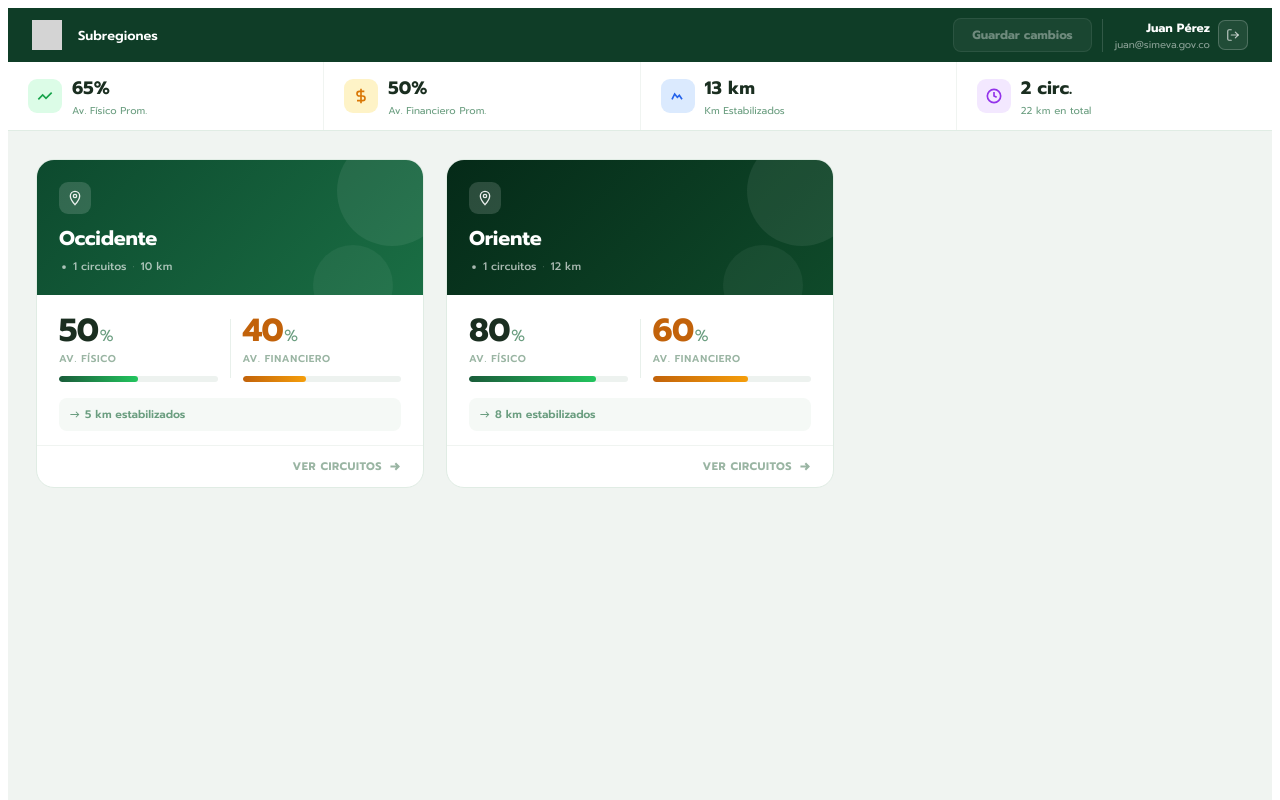
Test case: AdminGeoJsonView — con sesión autenticada › abre el modal de edición con doble clic y aplica un cambio
The width and height of the screenshot is (1280, 800).
Click the element with class "subcard" that starts with "Occidente".
click(230, 324)  # box [36, 159, 424, 488]
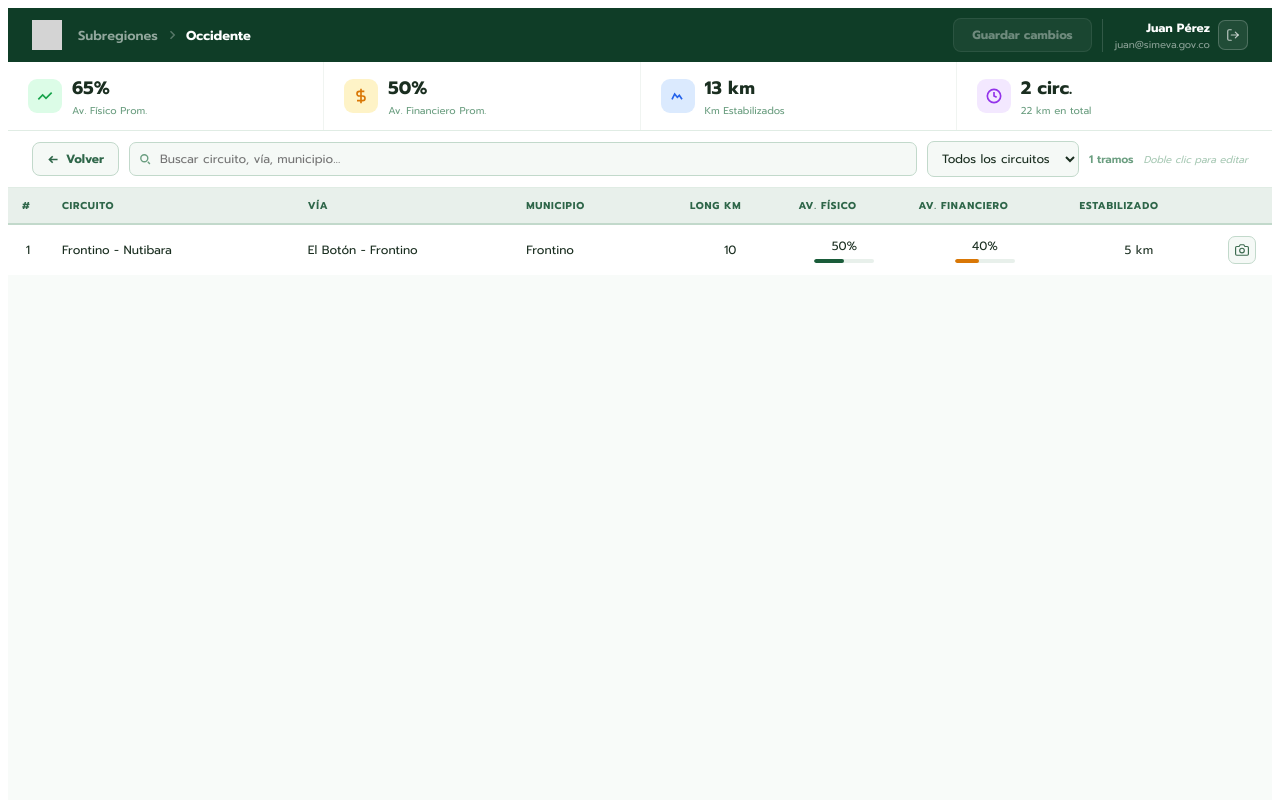
Double-click the row with class "tbl-row".
double_click(640, 250)  # box [8, 225, 1272, 275]
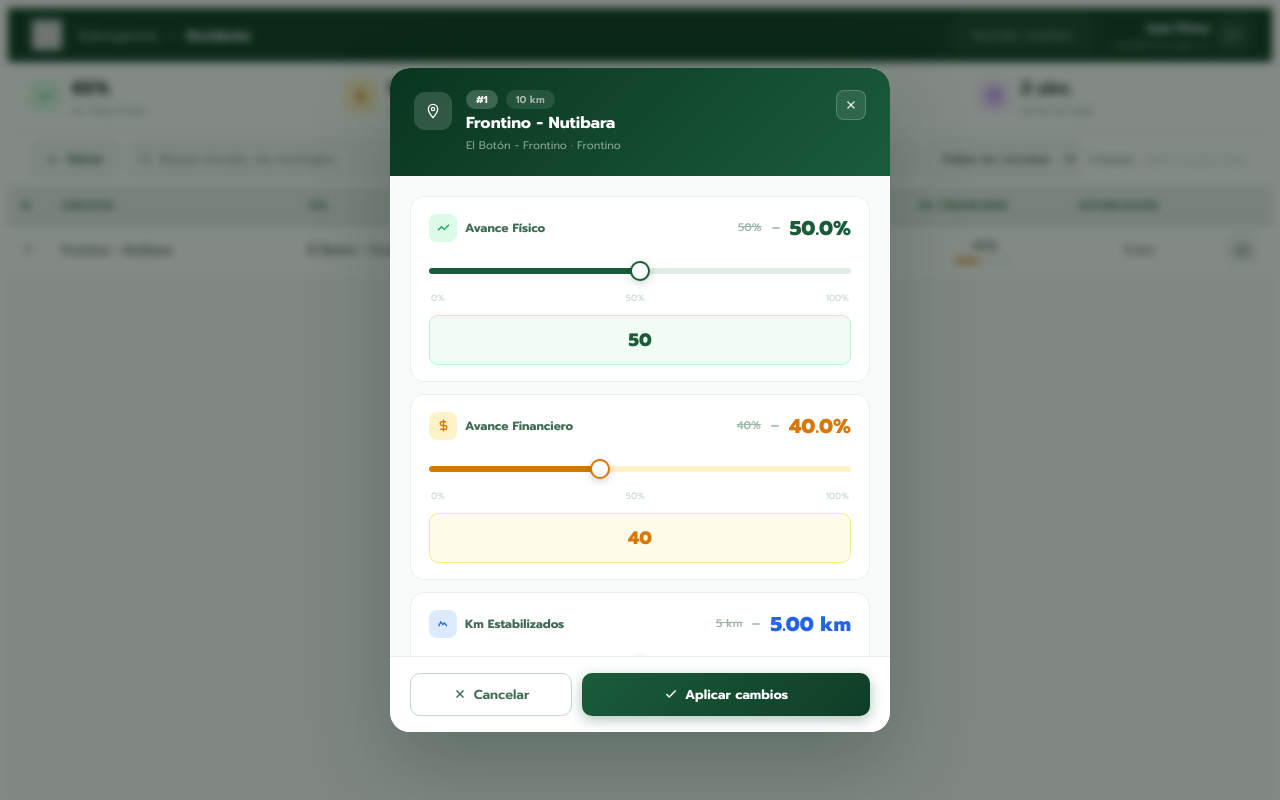
Now the element with class "edit-modal" is shown, box [390, 68, 890, 732]
Replace the text in the number field with class "num-field--fis" with "75" at (640, 340), box [429, 315, 851, 365]
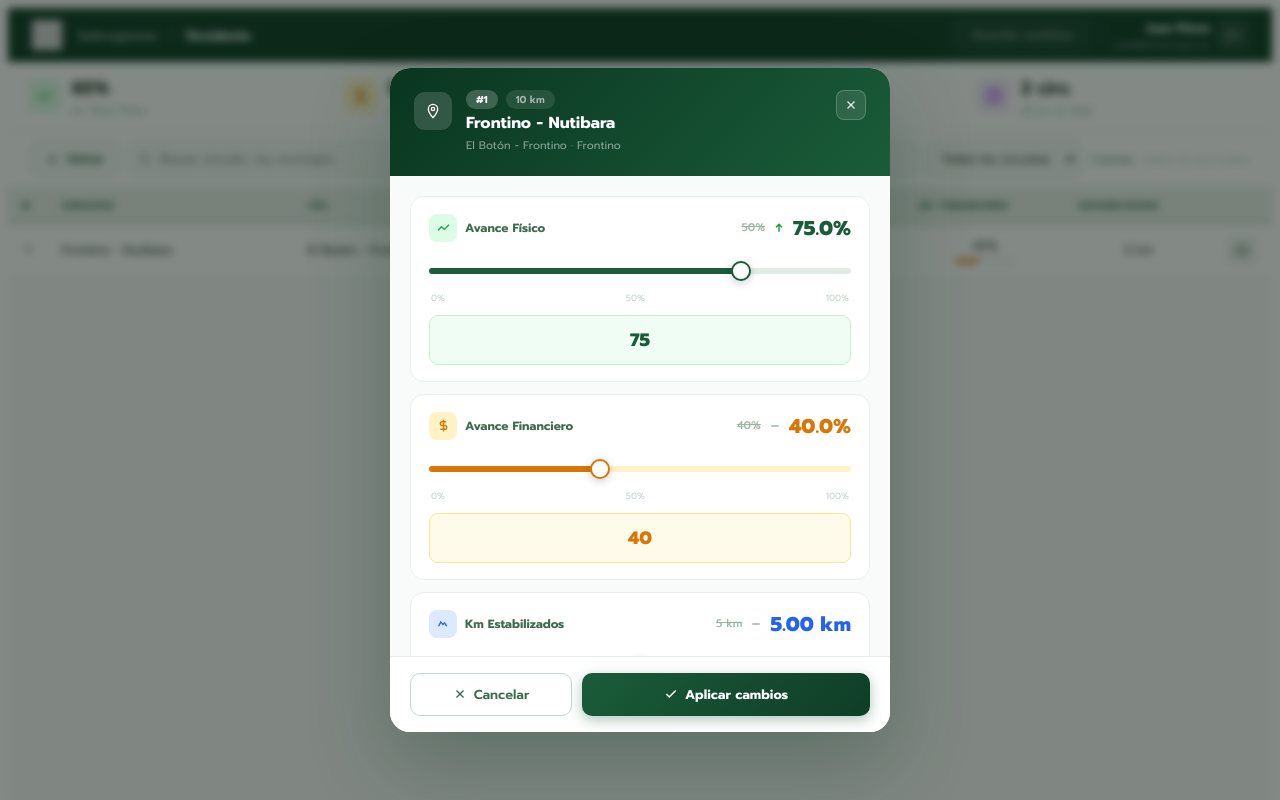
Click the button with class "btn-drawer-apply".
click(726, 694)  # box [582, 673, 870, 716]
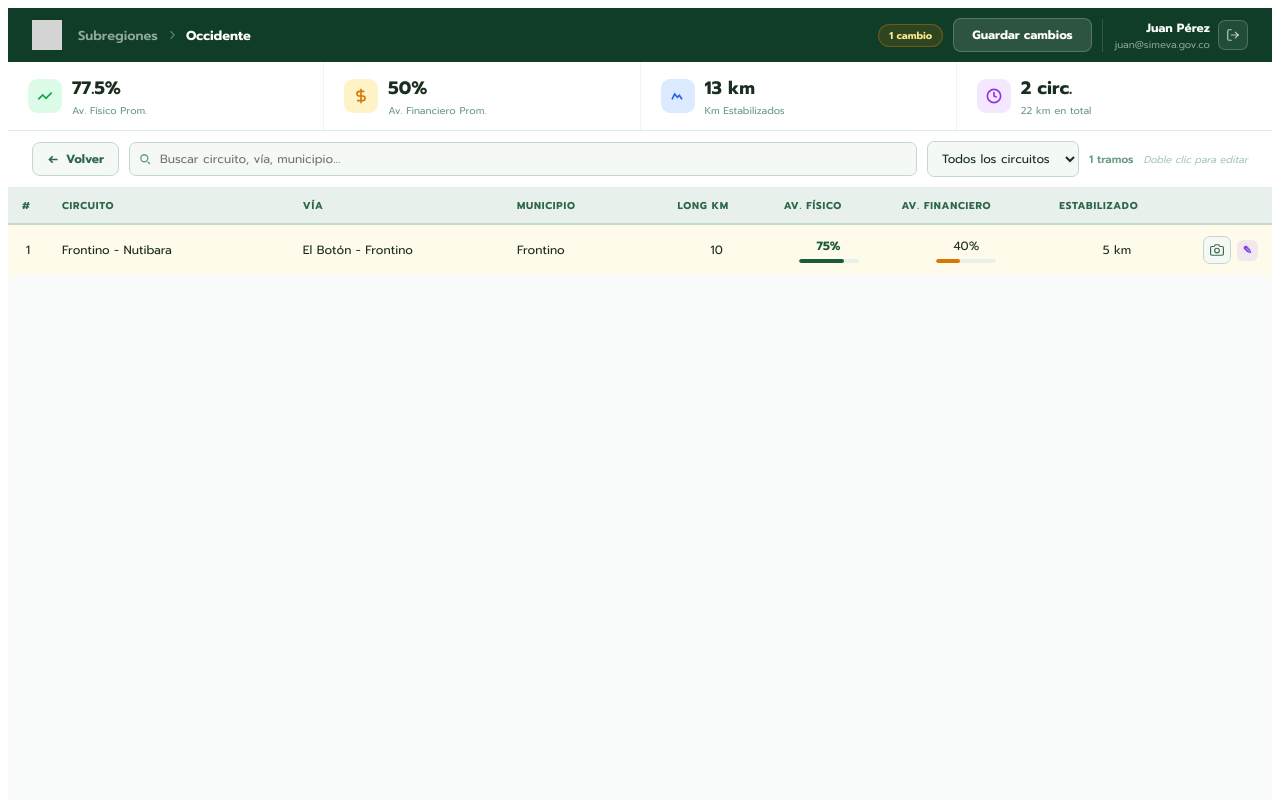
Now the element with class "edit-modal" is gone
Now the text with class "badge--warn" reads "1 cambio", box [889, 28, 932, 42]
